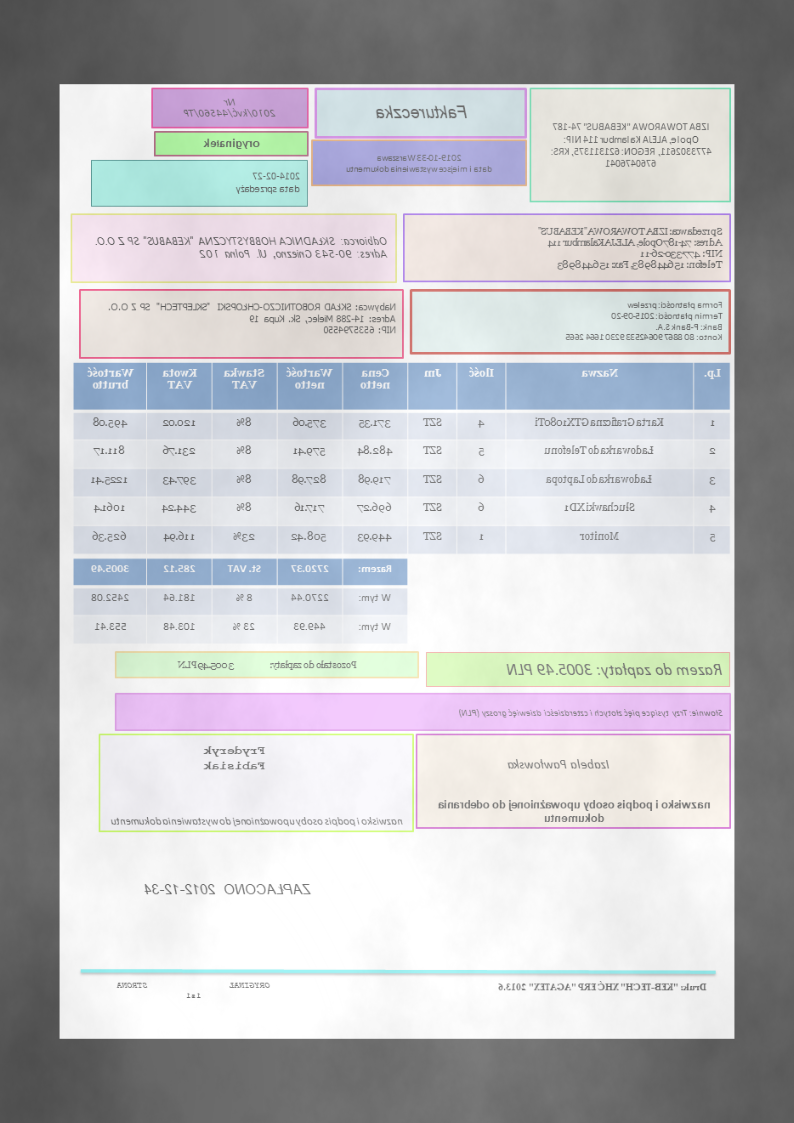Table: (72, 361, 732, 556), (71, 556, 410, 644)
TextBox: (106, 300, 398, 336), (536, 223, 725, 272), (549, 119, 714, 169), (93, 234, 391, 260), (437, 798, 712, 825), (565, 298, 725, 342), (109, 813, 406, 828), (504, 660, 724, 678), (343, 152, 495, 176), (116, 979, 271, 1000), (456, 707, 724, 719), (496, 980, 710, 995), (141, 881, 314, 899), (181, 95, 278, 122), (176, 658, 360, 672), (200, 744, 268, 772), (235, 170, 302, 197), (375, 103, 468, 121), (506, 757, 611, 771), (202, 136, 263, 151)
